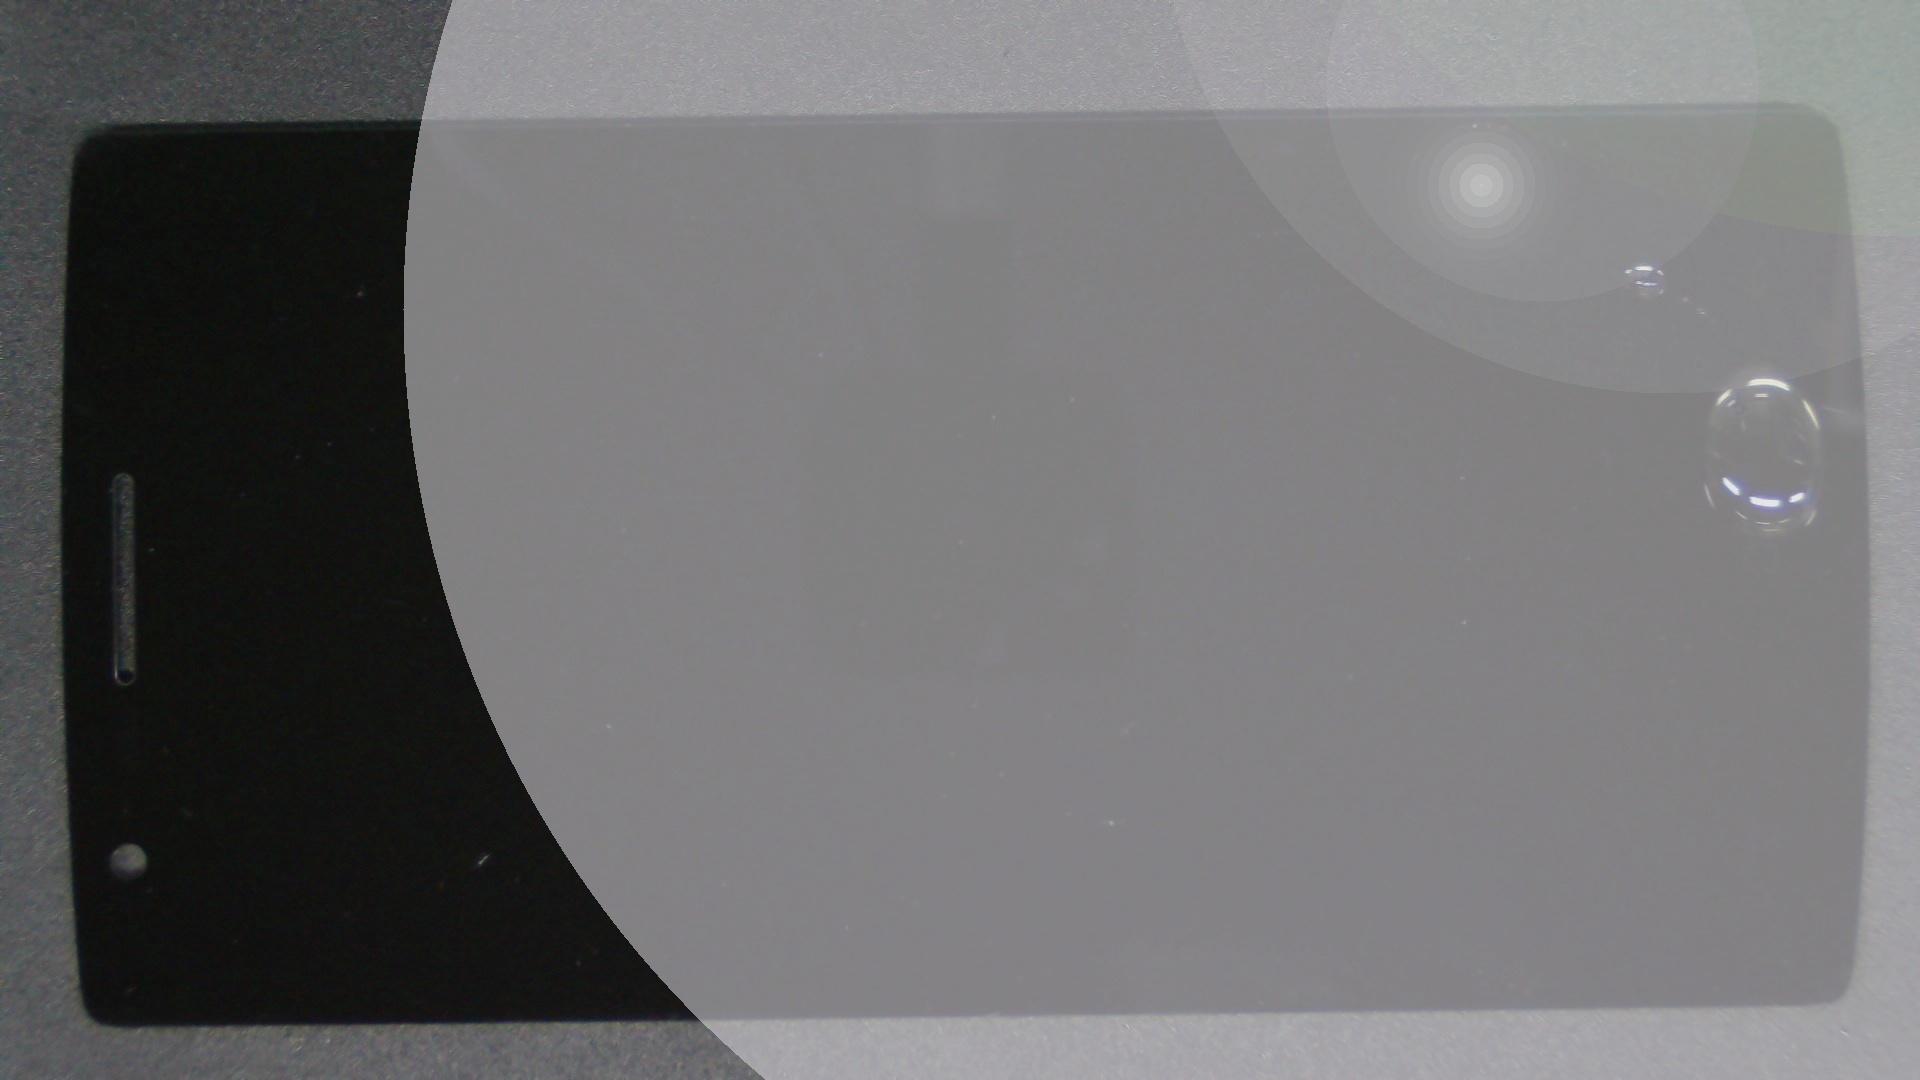oil: (882, 182, 1920, 549), (851, 153, 1920, 462), (823, 131, 1920, 393)
